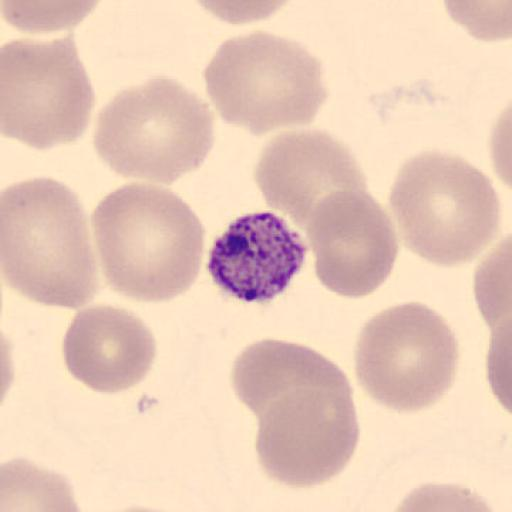Platelet: (203, 207, 313, 306)
RBC: (90, 179, 208, 306), (386, 147, 503, 269), (92, 74, 217, 186), (202, 28, 330, 137), (253, 126, 373, 238), (2, 174, 98, 312), (229, 336, 356, 437), (352, 300, 462, 414), (2, 34, 96, 152), (255, 386, 361, 490), (303, 190, 400, 300), (61, 301, 158, 396), (479, 243, 512, 423), (1, 454, 86, 512), (473, 235, 512, 348), (387, 479, 498, 512), (1, 0, 105, 35), (441, 0, 512, 42), (485, 315, 512, 423), (185, 0, 299, 25), (489, 100, 512, 212), (487, 106, 511, 193), (0, 324, 17, 407), (91, 503, 195, 512)
